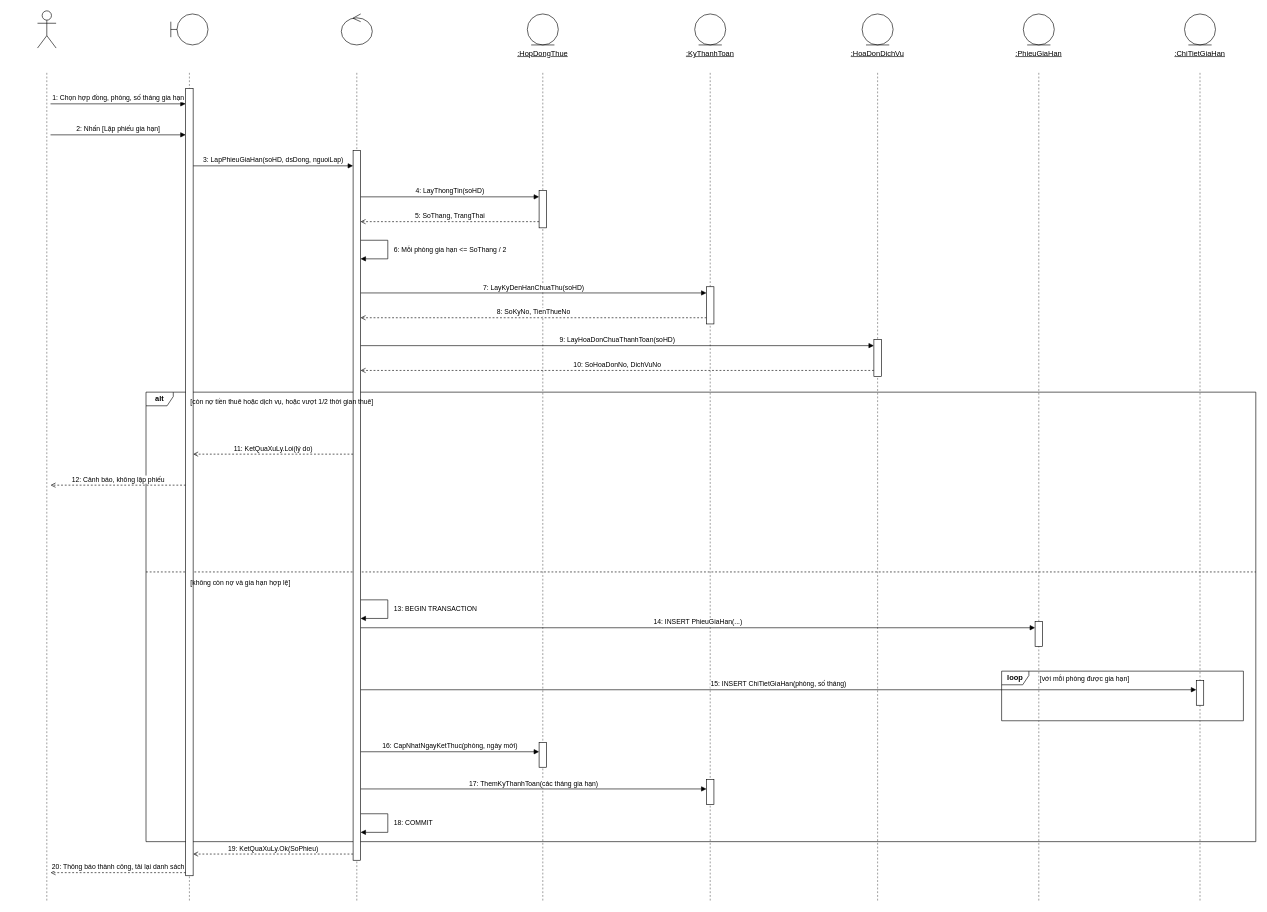
Some shapes in this 1267 by 912 pixel diagram are drawn without their labels. Here are the shapes that lost their labels. From the top down, the centre of each, then its label:
At (x=46, y=29): "Nhân viên kinh doanh".
At (x=189, y=29): ":FrmHopDong".
At (x=356, y=29): ":HopDongService".
